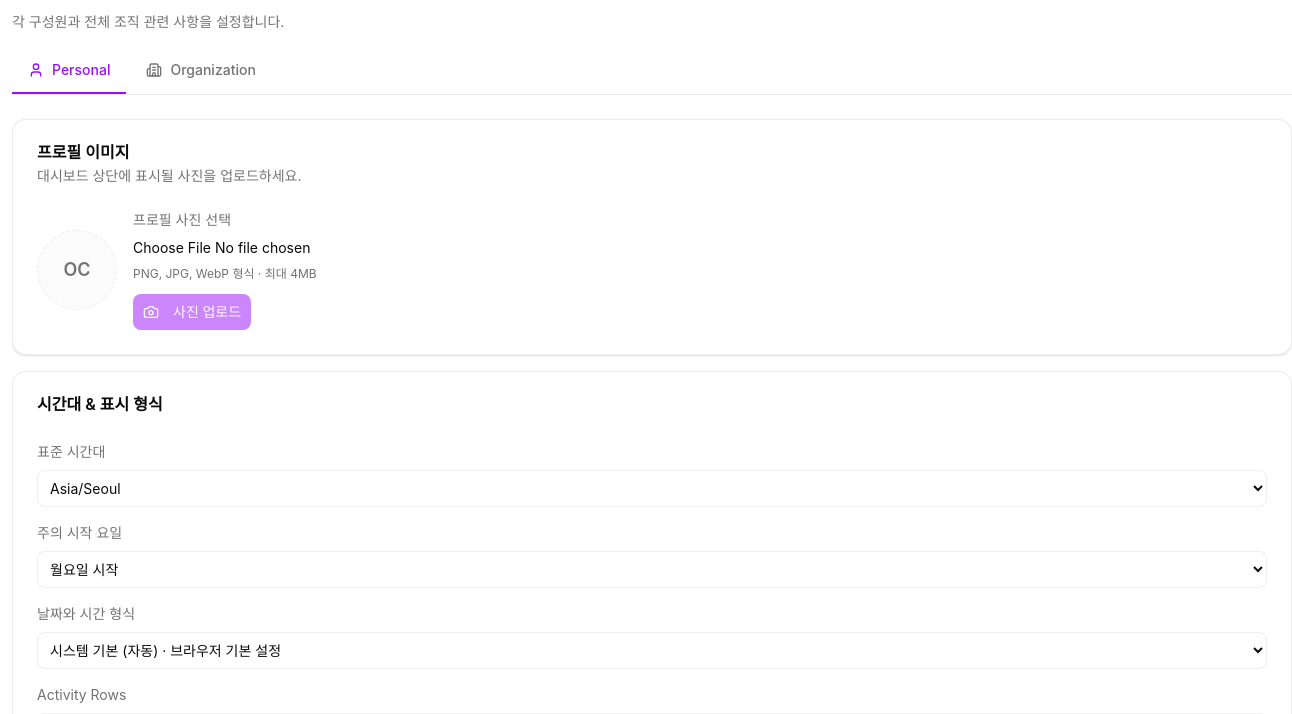
Test: SettingsView › shows organization controls as read-only for non-admin users
Click the button "Organization": click(201, 71) [130,48,272,94]
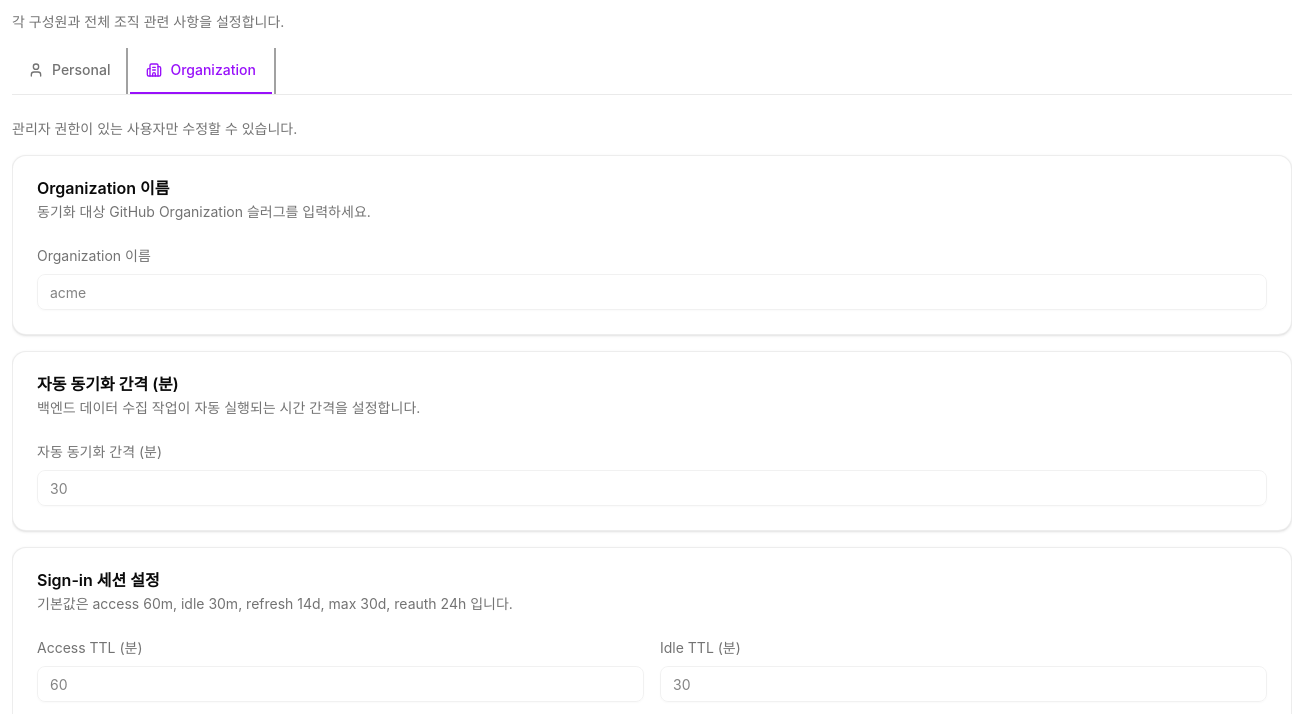
Expected: the field labelled "Organization 이름" is disabled, [37,274,1267,310]
Expected: the number field labelled "자동 동기화 간격 (분)" is disabled, [37,470,1267,506]
Expected: the text "관리자 권한이 있는 사용자만 수정할 수 있습니다." is shown, [12,120,297,137]
